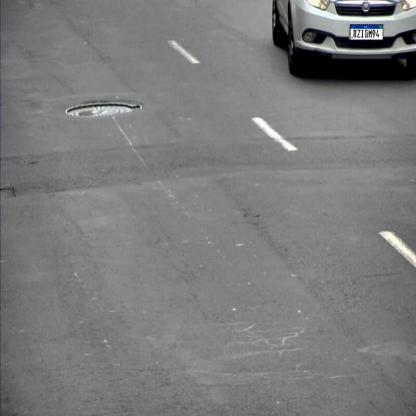PlacaM: (350, 24, 383, 40)
